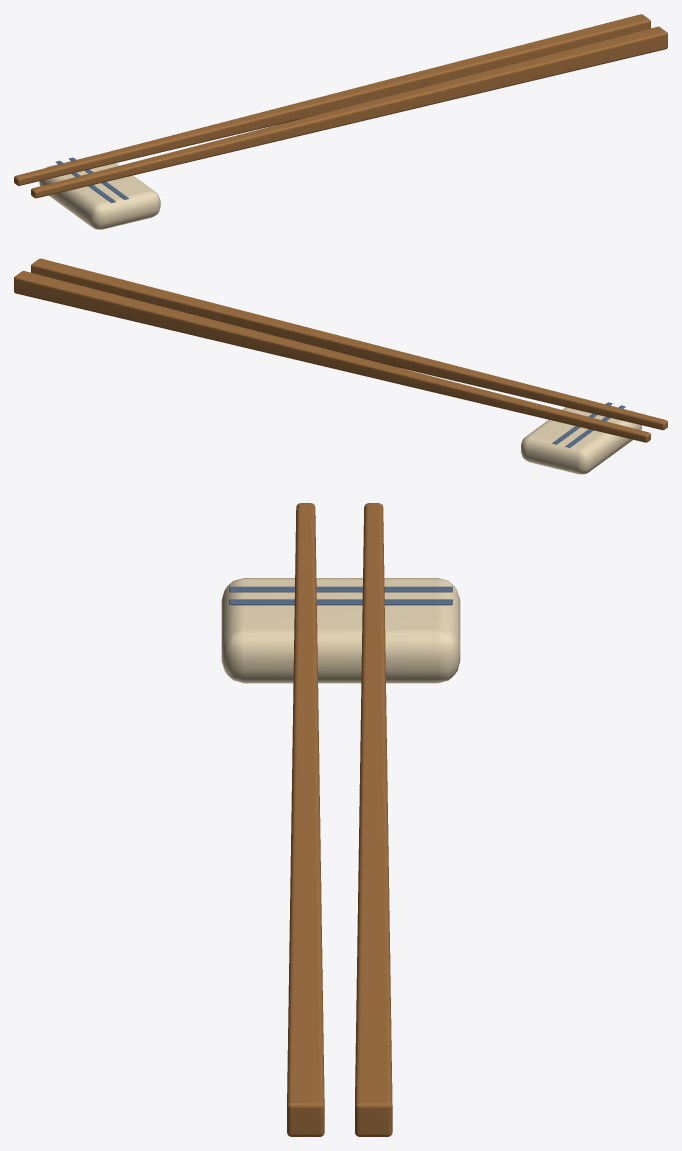
The model's file is chopsticks.glb.
The picture shows the model from 3 angles, top to bottom: view 1: azimuth 30°, elevation 25°; view 2: azimuth 150°, elevation 25°; view 3: azimuth 270°, elevation 25°; orthographic projection. The views are drawn at different scales.
Parts seen in each view (by area): view 1: Separate tapered bamboo chopstick, Separate tapered bamboo chopstick.001, Chopstick porcelain rest; view 2: Separate tapered bamboo chopstick.001, Separate tapered bamboo chopstick, Chopstick porcelain rest; view 3: Separate tapered bamboo chopstick, Separate tapered bamboo chopstick.001, Chopstick porcelain rest, Rest indigo inlay, Rest indigo inlay.001.
Part boxes in pixels (x1,y1,x2,y2): Separate tapered bamboo chopstick: (31,26,667,198); Separate tapered bamboo chopstick.001: (14,14,650,185); Chopstick porcelain rest: (39,156,160,229); Separate tapered bamboo chopstick.001: (14,271,650,442); Separate tapered bamboo chopstick: (31,258,667,430); Chopstick porcelain rest: (521,407,641,474); Separate tapered bamboo chopstick: (287,503,324,1136); Separate tapered bamboo chopstick.001: (355,503,392,1136); Chopstick porcelain rest: (221,578,460,683); Rest indigo inlay: (229,586,452,592); Rest indigo inlay.001: (229,599,452,605).
Bounding box in the file's own units: 5.8 × 0.4148 × 0.95.
